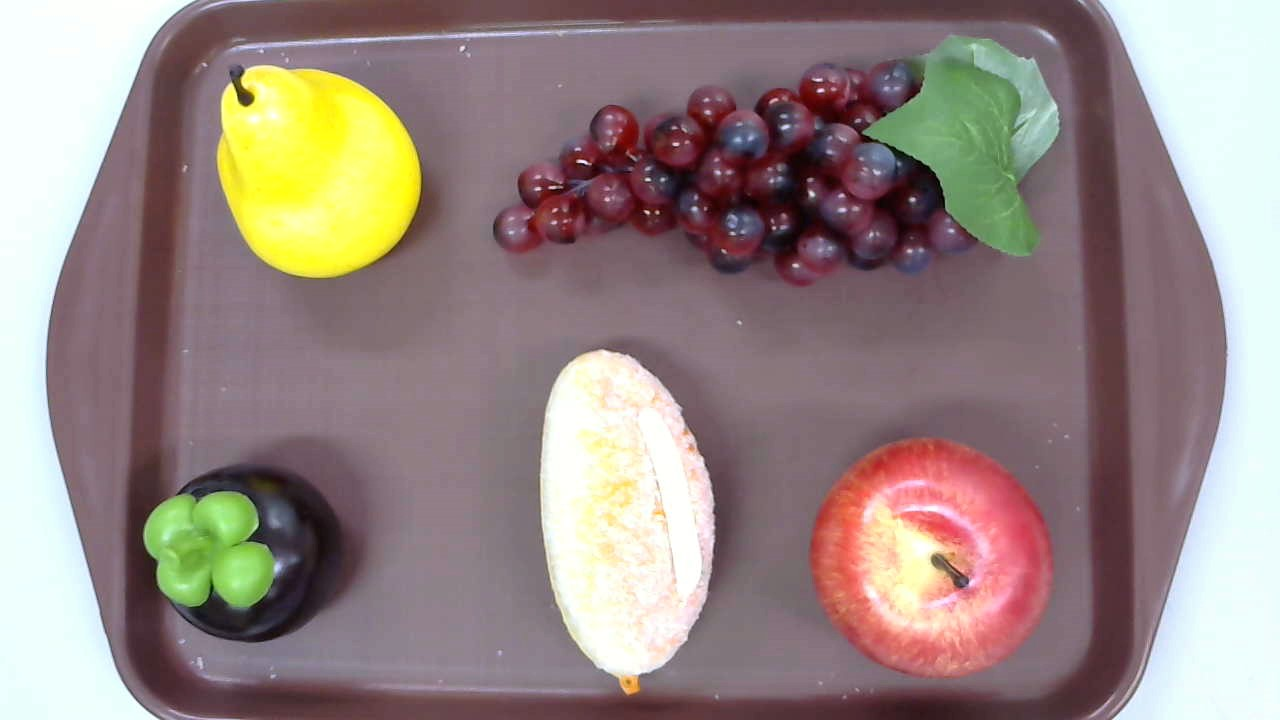coconut: (540, 347, 716, 695)
grape: (492, 32, 1061, 287)
mangosteen: (143, 463, 346, 644)
red apple: (811, 437, 1053, 679)
yellow pear: (216, 64, 422, 279)
